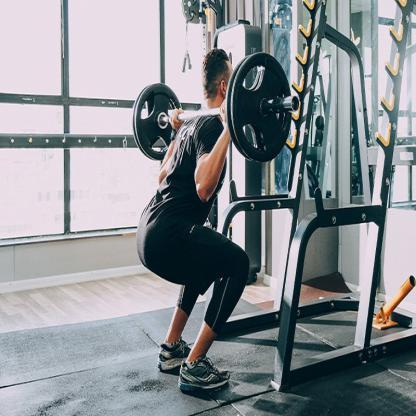barbell: (135, 53, 300, 167)
